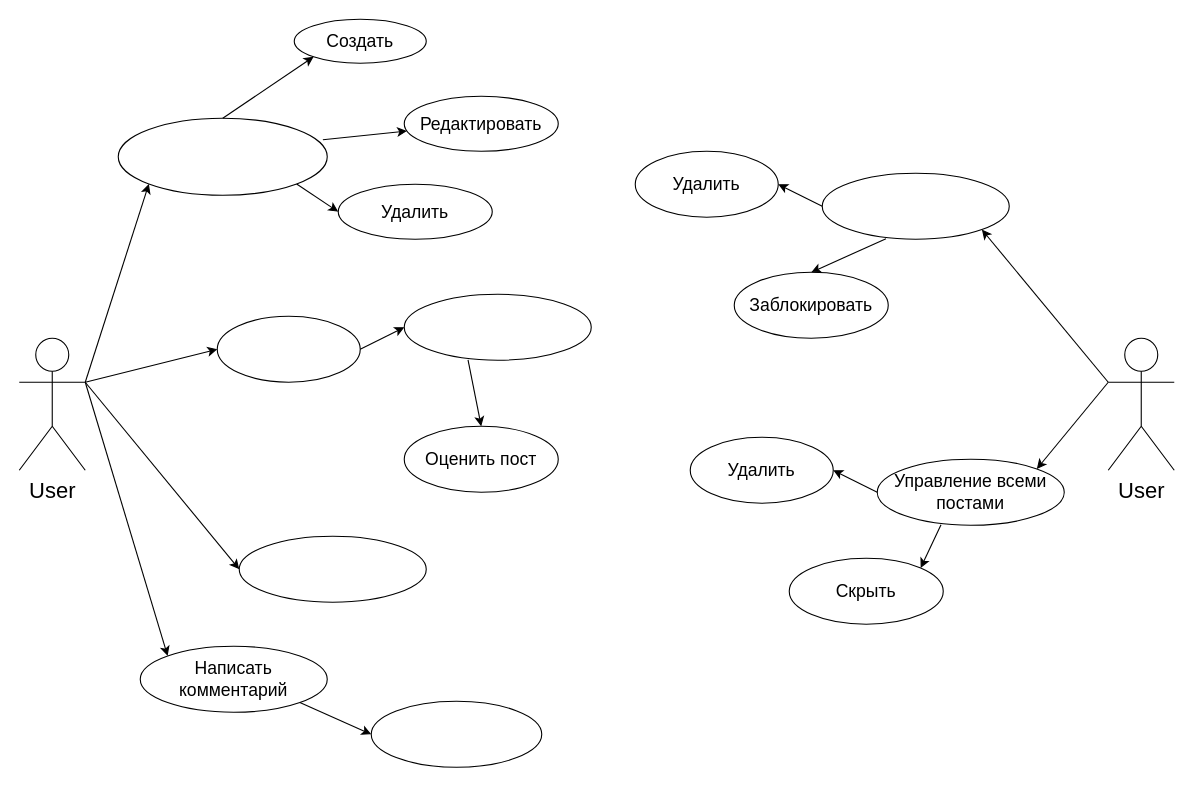
Some shapes in this 1194 by 787 pixel diagram are drawn without their labels. The box of each missing label's shape, as (x1, y1, x2, y2) in pixels:
Оценить комментарий: (370, 700, 542, 767)
Подписаться на пользователя: (238, 535, 426, 602)
Просмотреть ленту: (216, 315, 360, 382)
Просмотреть пост: (403, 293, 591, 360)
Управление пользователями: (821, 172, 1009, 239)
Управление своими постами: (117, 117, 327, 195)
